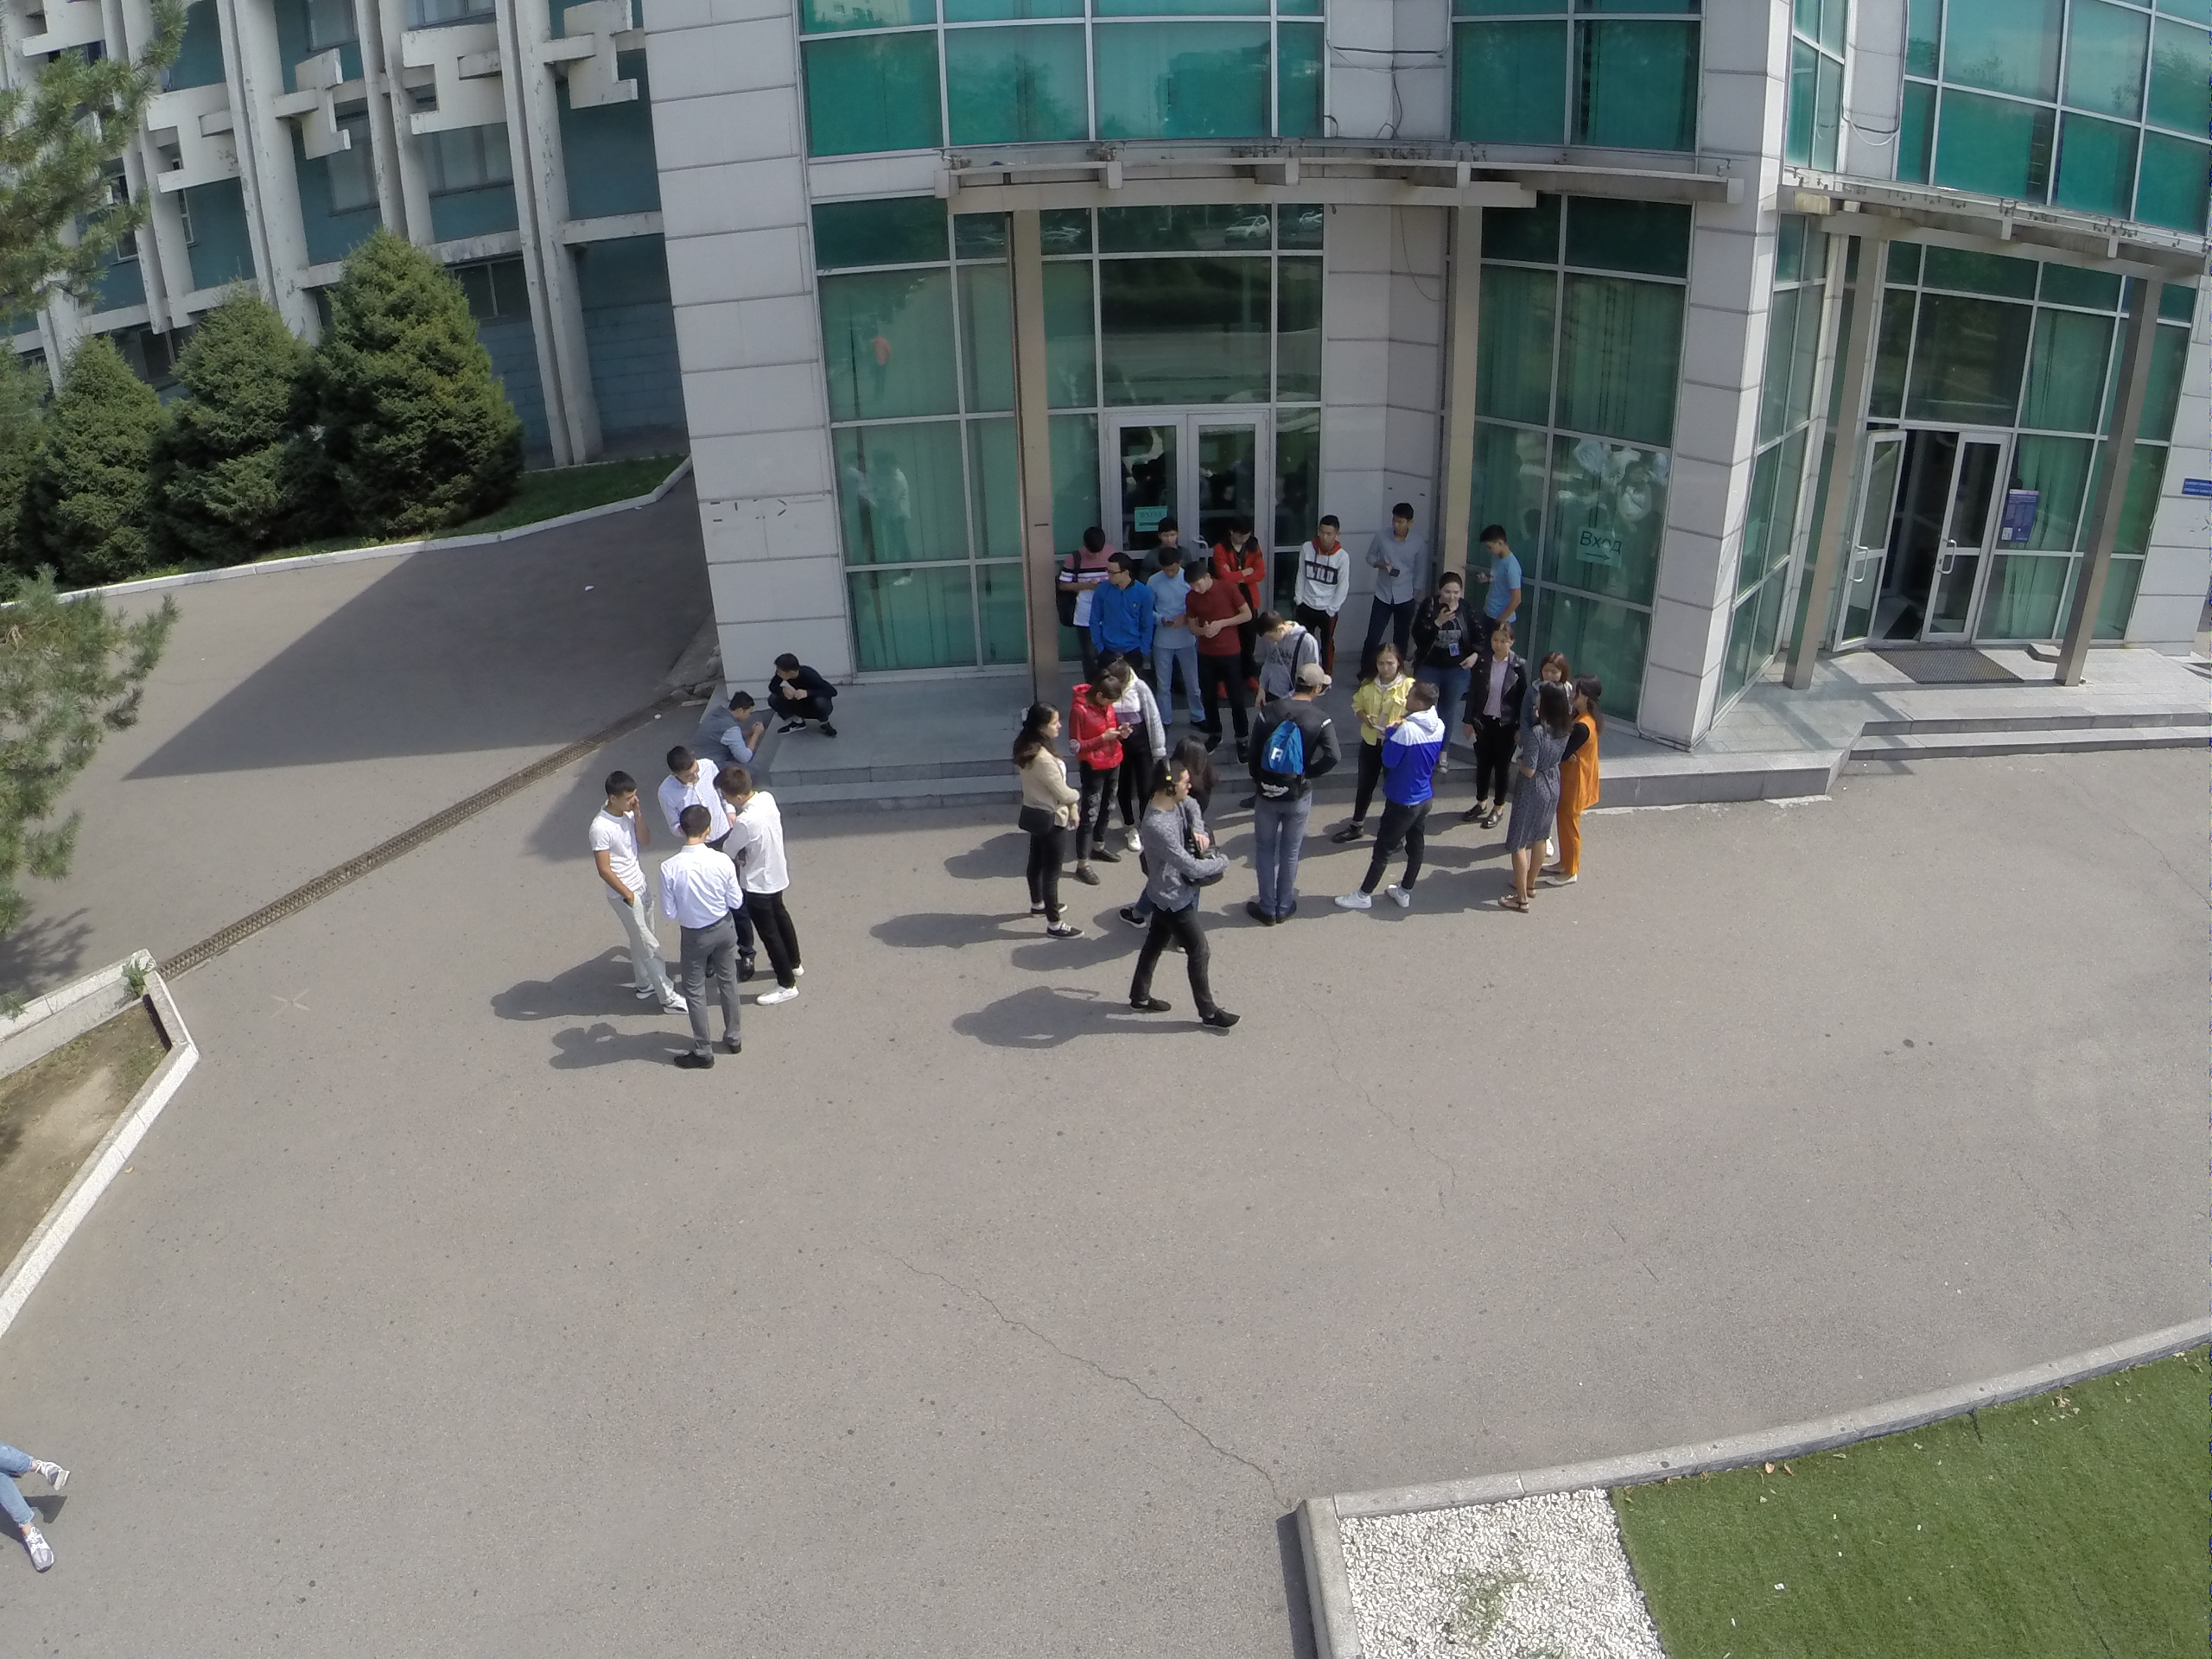person: (1337, 674, 1450, 936), (1135, 765, 1241, 1033), (721, 760, 813, 1007), (654, 802, 738, 1067), (589, 772, 664, 1021), (1255, 660, 1325, 919), (1012, 696, 1078, 945), (1189, 561, 1256, 758), (1550, 672, 1611, 886), (1463, 620, 1521, 825), (1070, 660, 1120, 891), (1501, 682, 1546, 921), (1150, 550, 1200, 733), (1365, 499, 1427, 641), (762, 646, 839, 741), (1429, 570, 1480, 699), (1095, 555, 1148, 671), (1053, 521, 1107, 637), (1472, 521, 1524, 623), (1300, 518, 1347, 629), (1357, 639, 1408, 714), (1255, 599, 1313, 663), (661, 734, 706, 804), (1215, 520, 1267, 578), (1150, 519, 1185, 550)
